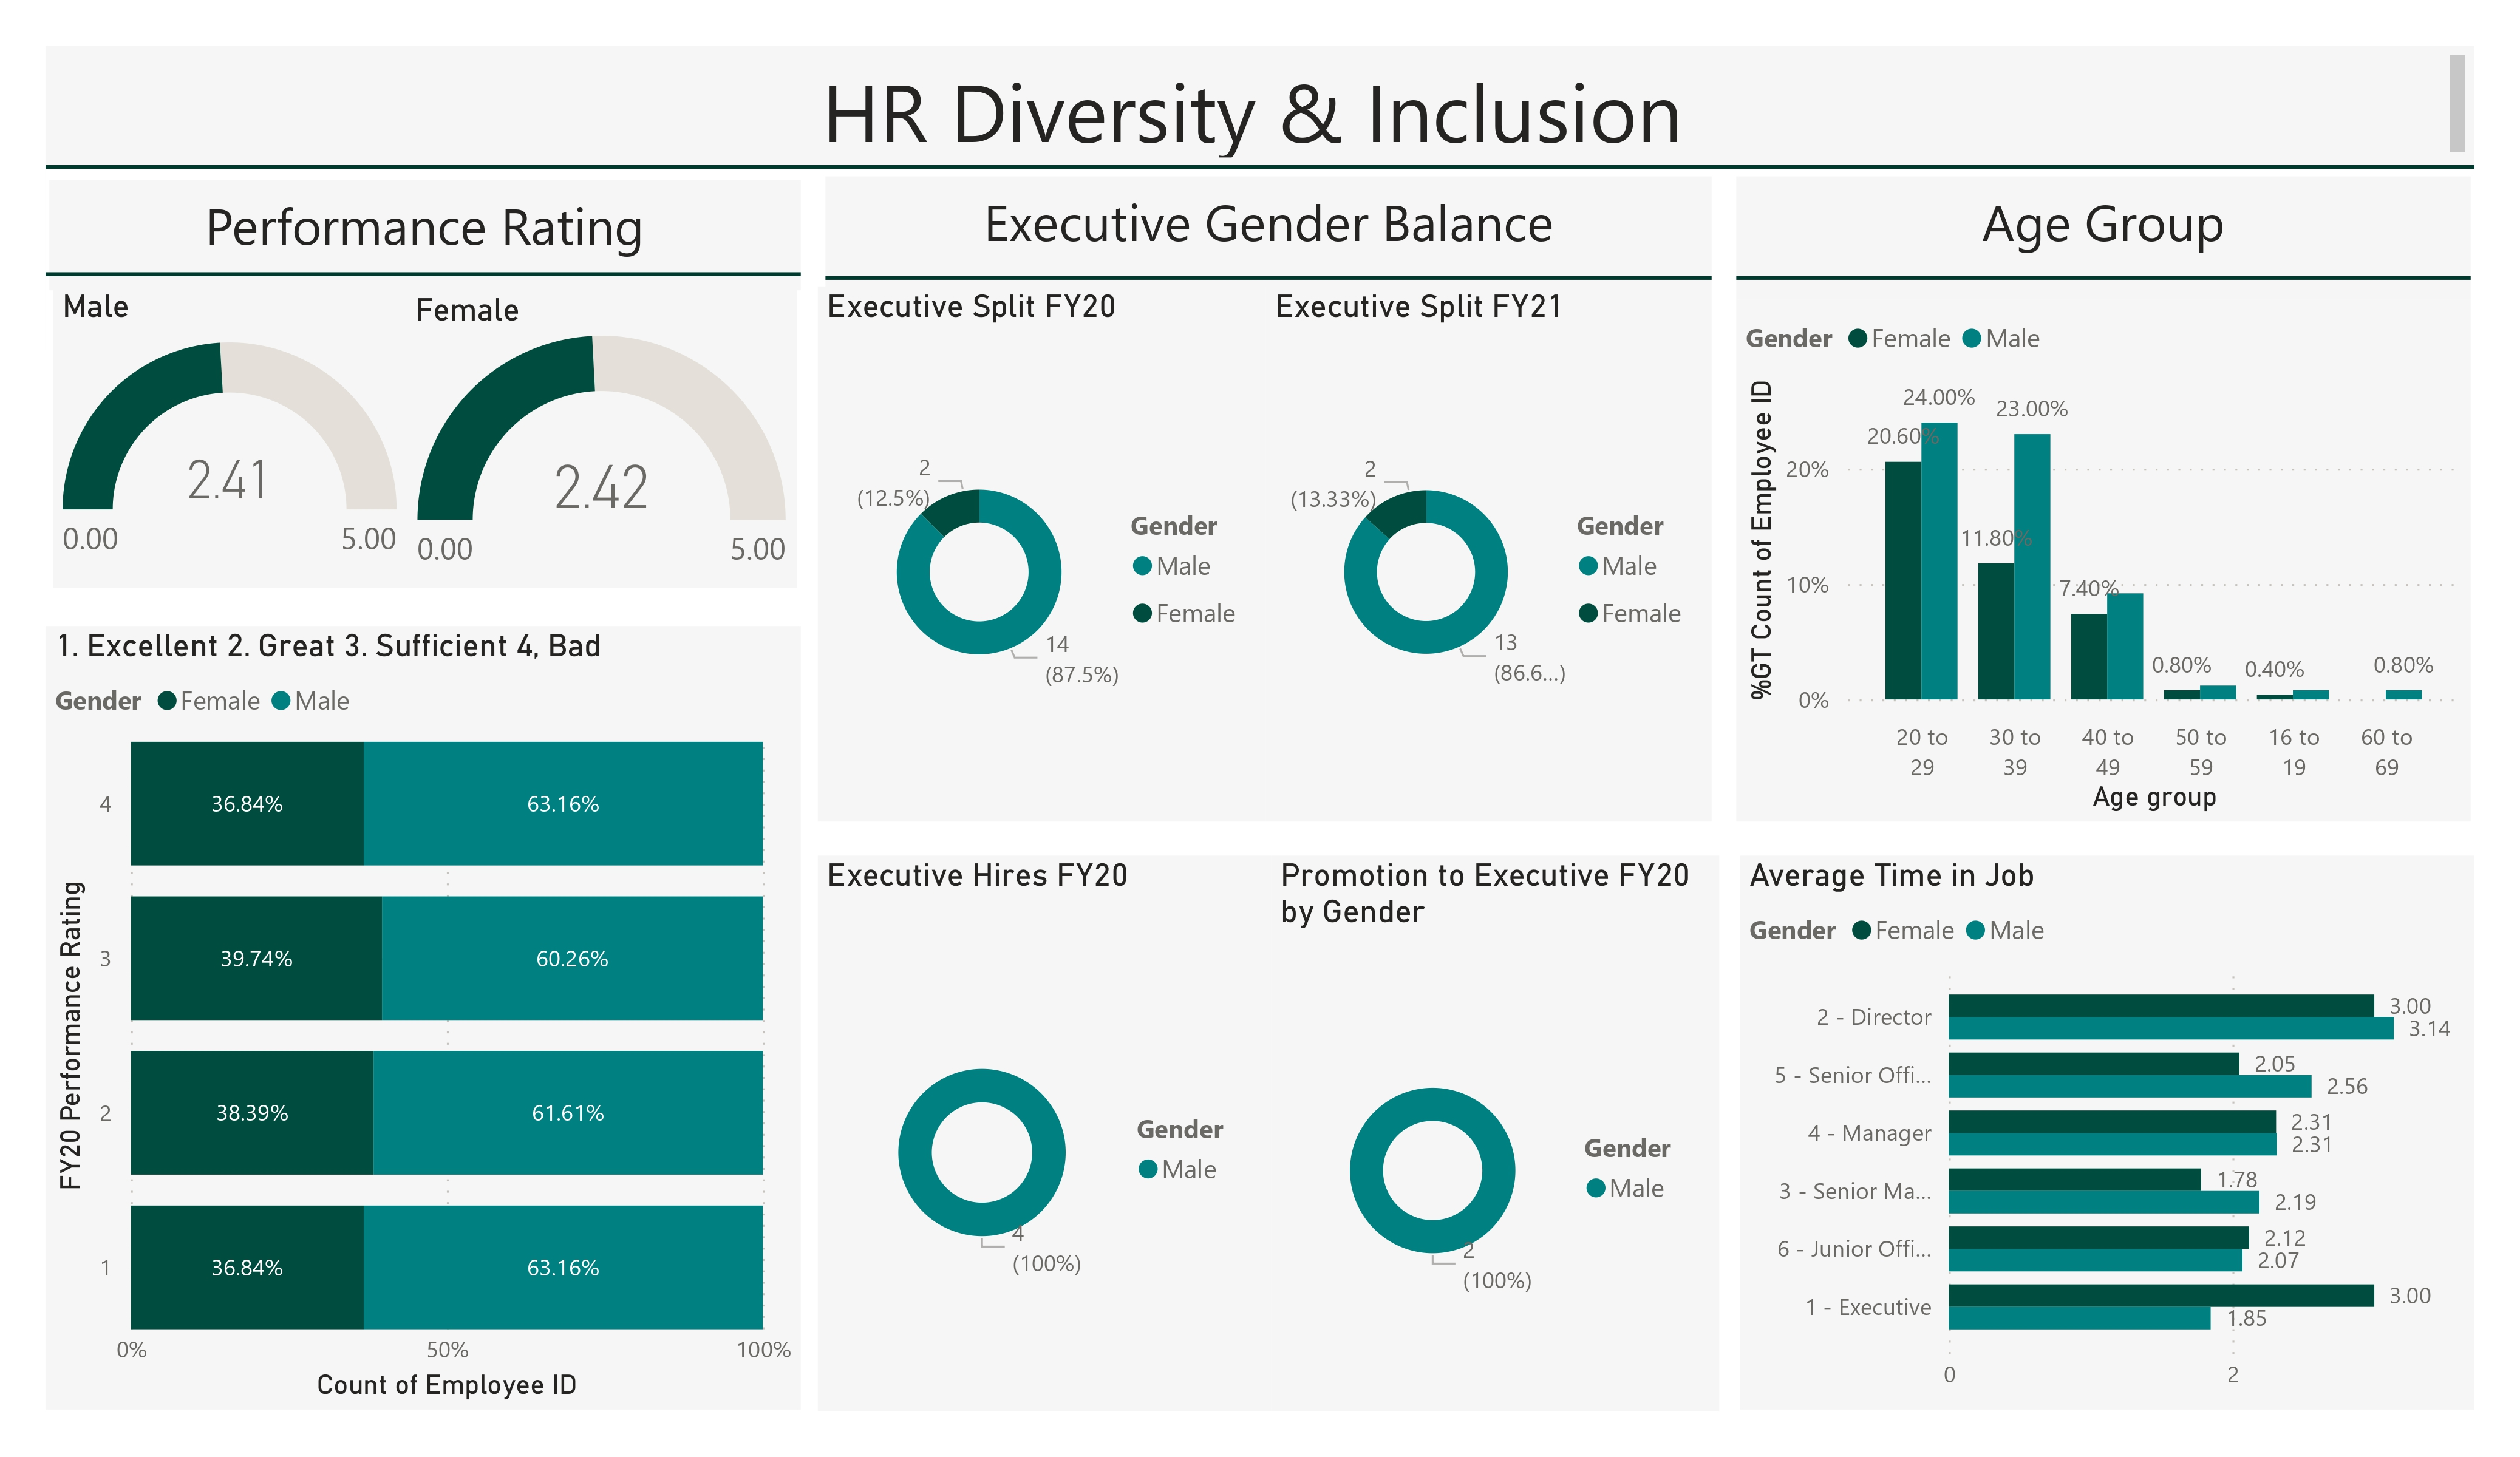

The page's visual inventory and layout, read from the dashboard file:
{"tool":"powerbi","page":{"name":"Page 2","canvas":[1280,720],"ordinal":1},"visuals":[{"type":"textbox","box":[0,0,1280,64],"z":0},{"type":"shape","box":[0,57.3,1280,13.5],"z":1000},{"type":"hundredPercentStackedBarChart","title":"1. Excellent 2. Great 3. Sufficient 4, Bad","fields":{"Y":["CountNonNull(Pharma Group AG.Employee ID)"],"Series":["Pharma Group AG.Gender"],"Category":["Pharma Group AG.FY20 Performance Rating"]},"box":[0,306,398.3,412.8],"z":2000},{"type":"donutChart","title":"Executive Split FY20","fields":{"Y":["CountNonNull(Pharma Group AG.Job Level after FY20 promotions)"],"Category":["Pharma Group AG.Gender"]},"box":[407.4,126.7,235.4,282.4],"z":3000},{"type":"donutChart","title":"Executive Split FY21","fields":{"Category":["Pharma Group AG.Gender"],"Y":["CountNonNull(Pharma Group AG.Job Level after FY21 promotions)"]},"box":[642.7,126.7,235.4,282.4],"z":4000},{"type":"donutChart","title":"Executive Hires FY20","fields":{"Category":["Pharma Group AG.Gender"],"Y":["CountNonNull(Pharma Group AG.New hire FY20?)"]},"box":[407.4,427.3,239,293.3],"z":5000},{"type":"donutChart","title":"Promotion to Executive FY20 by Gender","fields":{"Category":["Pharma Group AG.Gender"],"Y":["CountNonNull(Pharma Group AG.Promotion in FY20?)"]},"box":[646.3,427.3,235.4,293.3],"z":6000},{"type":"clusteredBarChart","title":"Average Time in Job","fields":{"Series":["Pharma Group AG.Gender"],"Y":["Avg(Pharma Group AG.Time in Job Level @01.07.2020)"],"Category":["Pharma Group AG.Job Level after FY20 promotions"]},"box":[892.6,427.3,387.4,291.5],"z":7000},{"type":"gauge","title":"Male","fields":{"Y":["Avg(Pharma Group AG.FY20 Performance Rating)"],"MaxValue":["Count(Pharma Group AG.FY20 Performance Rating)"]},"box":[3.6,126.7,186.5,159.3],"z":8000},{"type":"gauge","title":"Female","fields":{"Y":["Avg(Pharma Group AG.FY20 Performance Rating)"],"MaxValue":["Count(Pharma Group AG.FY20 Performance Rating)"]},"box":[190.1,128.5,206.4,157.5],"z":9000},{"type":"clusteredColumnChart","fields":{"Category":["Pharma Group AG.Age group"],"Y":["CountNonNull(Pharma Group AG.Employee ID)"],"Series":["Pharma Group AG.Gender"]},"box":[890.7,134,387.4,275.2],"z":10000},{"type":"textbox","box":[1.8,70.6,396.5,57.9],"z":11000},{"type":"textbox","box":[411,68.8,467.1,57.9],"z":12000},{"type":"textbox","box":[890.7,68.8,387.4,65.2],"z":13000},{"type":"shape","box":[0,114.1,398.3,12.7],"z":14000},{"type":"shape","box":[411,115.9,467.1,12.7],"z":15000},{"type":"shape","box":[890.7,115.9,387.4,12.7],"z":16000}]}

Visuals, with their boxes in screenshot pixels (x1, y1, x2, y2):
textbox: (left=46, top=46, right=2474, bottom=167)
shape: (left=46, top=154, right=2474, bottom=180)
"1. Excellent 2. Great 3. Sufficient 4, Bad" hundredPercentStackedBarChart: (left=46, top=626, right=802, bottom=1409)
"Executive Split FY20" donutChart: (left=819, top=286, right=1265, bottom=821)
"Executive Split FY21" donutChart: (left=1265, top=286, right=1712, bottom=821)
"Executive Hires FY20" donutChart: (left=819, top=856, right=1272, bottom=1411)
"Promotion to Executive FY20 by Gender" donutChart: (left=1272, top=856, right=1718, bottom=1411)
"Average Time in Job" clusteredBarChart: (left=1739, top=856, right=2474, bottom=1409)
"Male" gauge: (left=52, top=286, right=406, bottom=588)
"Female" gauge: (left=406, top=290, right=798, bottom=588)
clusteredColumnChart - Pharma Group AG.Age group x CountNonNull(Pharma Group AG.Employee ID): (left=1735, top=300, right=2471, bottom=822)
textbox: (left=49, top=180, right=802, bottom=290)
textbox: (left=825, top=176, right=1712, bottom=286)
textbox: (left=1735, top=176, right=2471, bottom=300)
shape: (left=46, top=262, right=802, bottom=286)
shape: (left=825, top=265, right=1712, bottom=290)
shape: (left=1735, top=265, right=2471, bottom=290)
